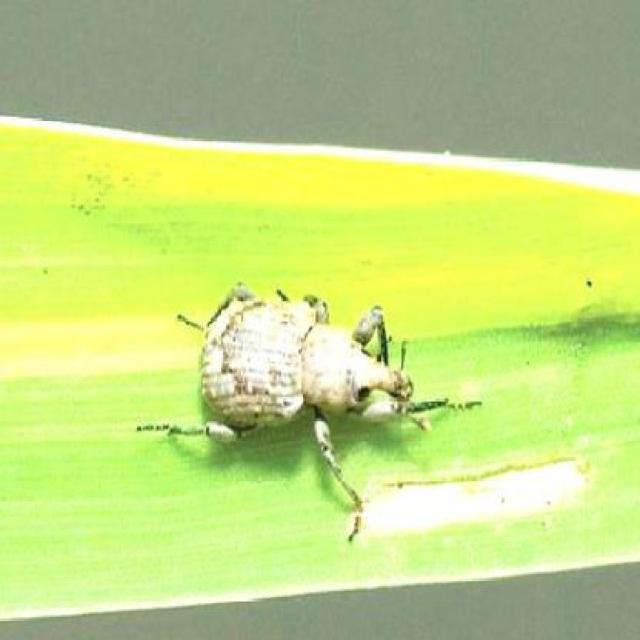rice-bug: (155, 278, 423, 480)
